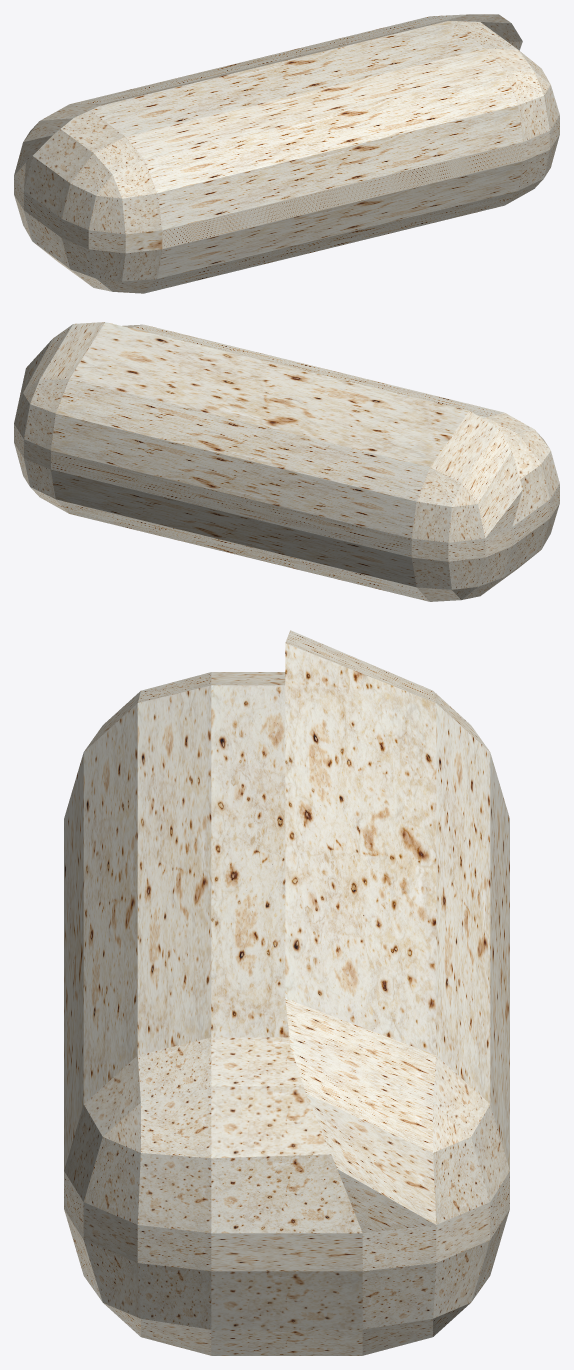
File: tacos.fbx
3 views of the same model, one above another, from view 1: azimuth 30°, elevation 25°; view 2: azimuth 150°, elevation 25°; view 3: azimuth 270°, elevation 25° (orthographic). The views are drawn at different scales.
Visible parts, largest first — view 1: Cube; view 2: Cube; view 3: Cube.
Part boxes in pixels (bbox=[...]): Cube: bbox=[14, 14, 559, 293]; Cube: bbox=[14, 322, 559, 601]; Cube: bbox=[64, 630, 509, 1355].
Size of the model in its own units: 515 by 171 by 200.
Materials: 1 (1 with a texture image).
